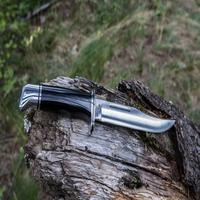knife: (10, 70, 176, 143)
